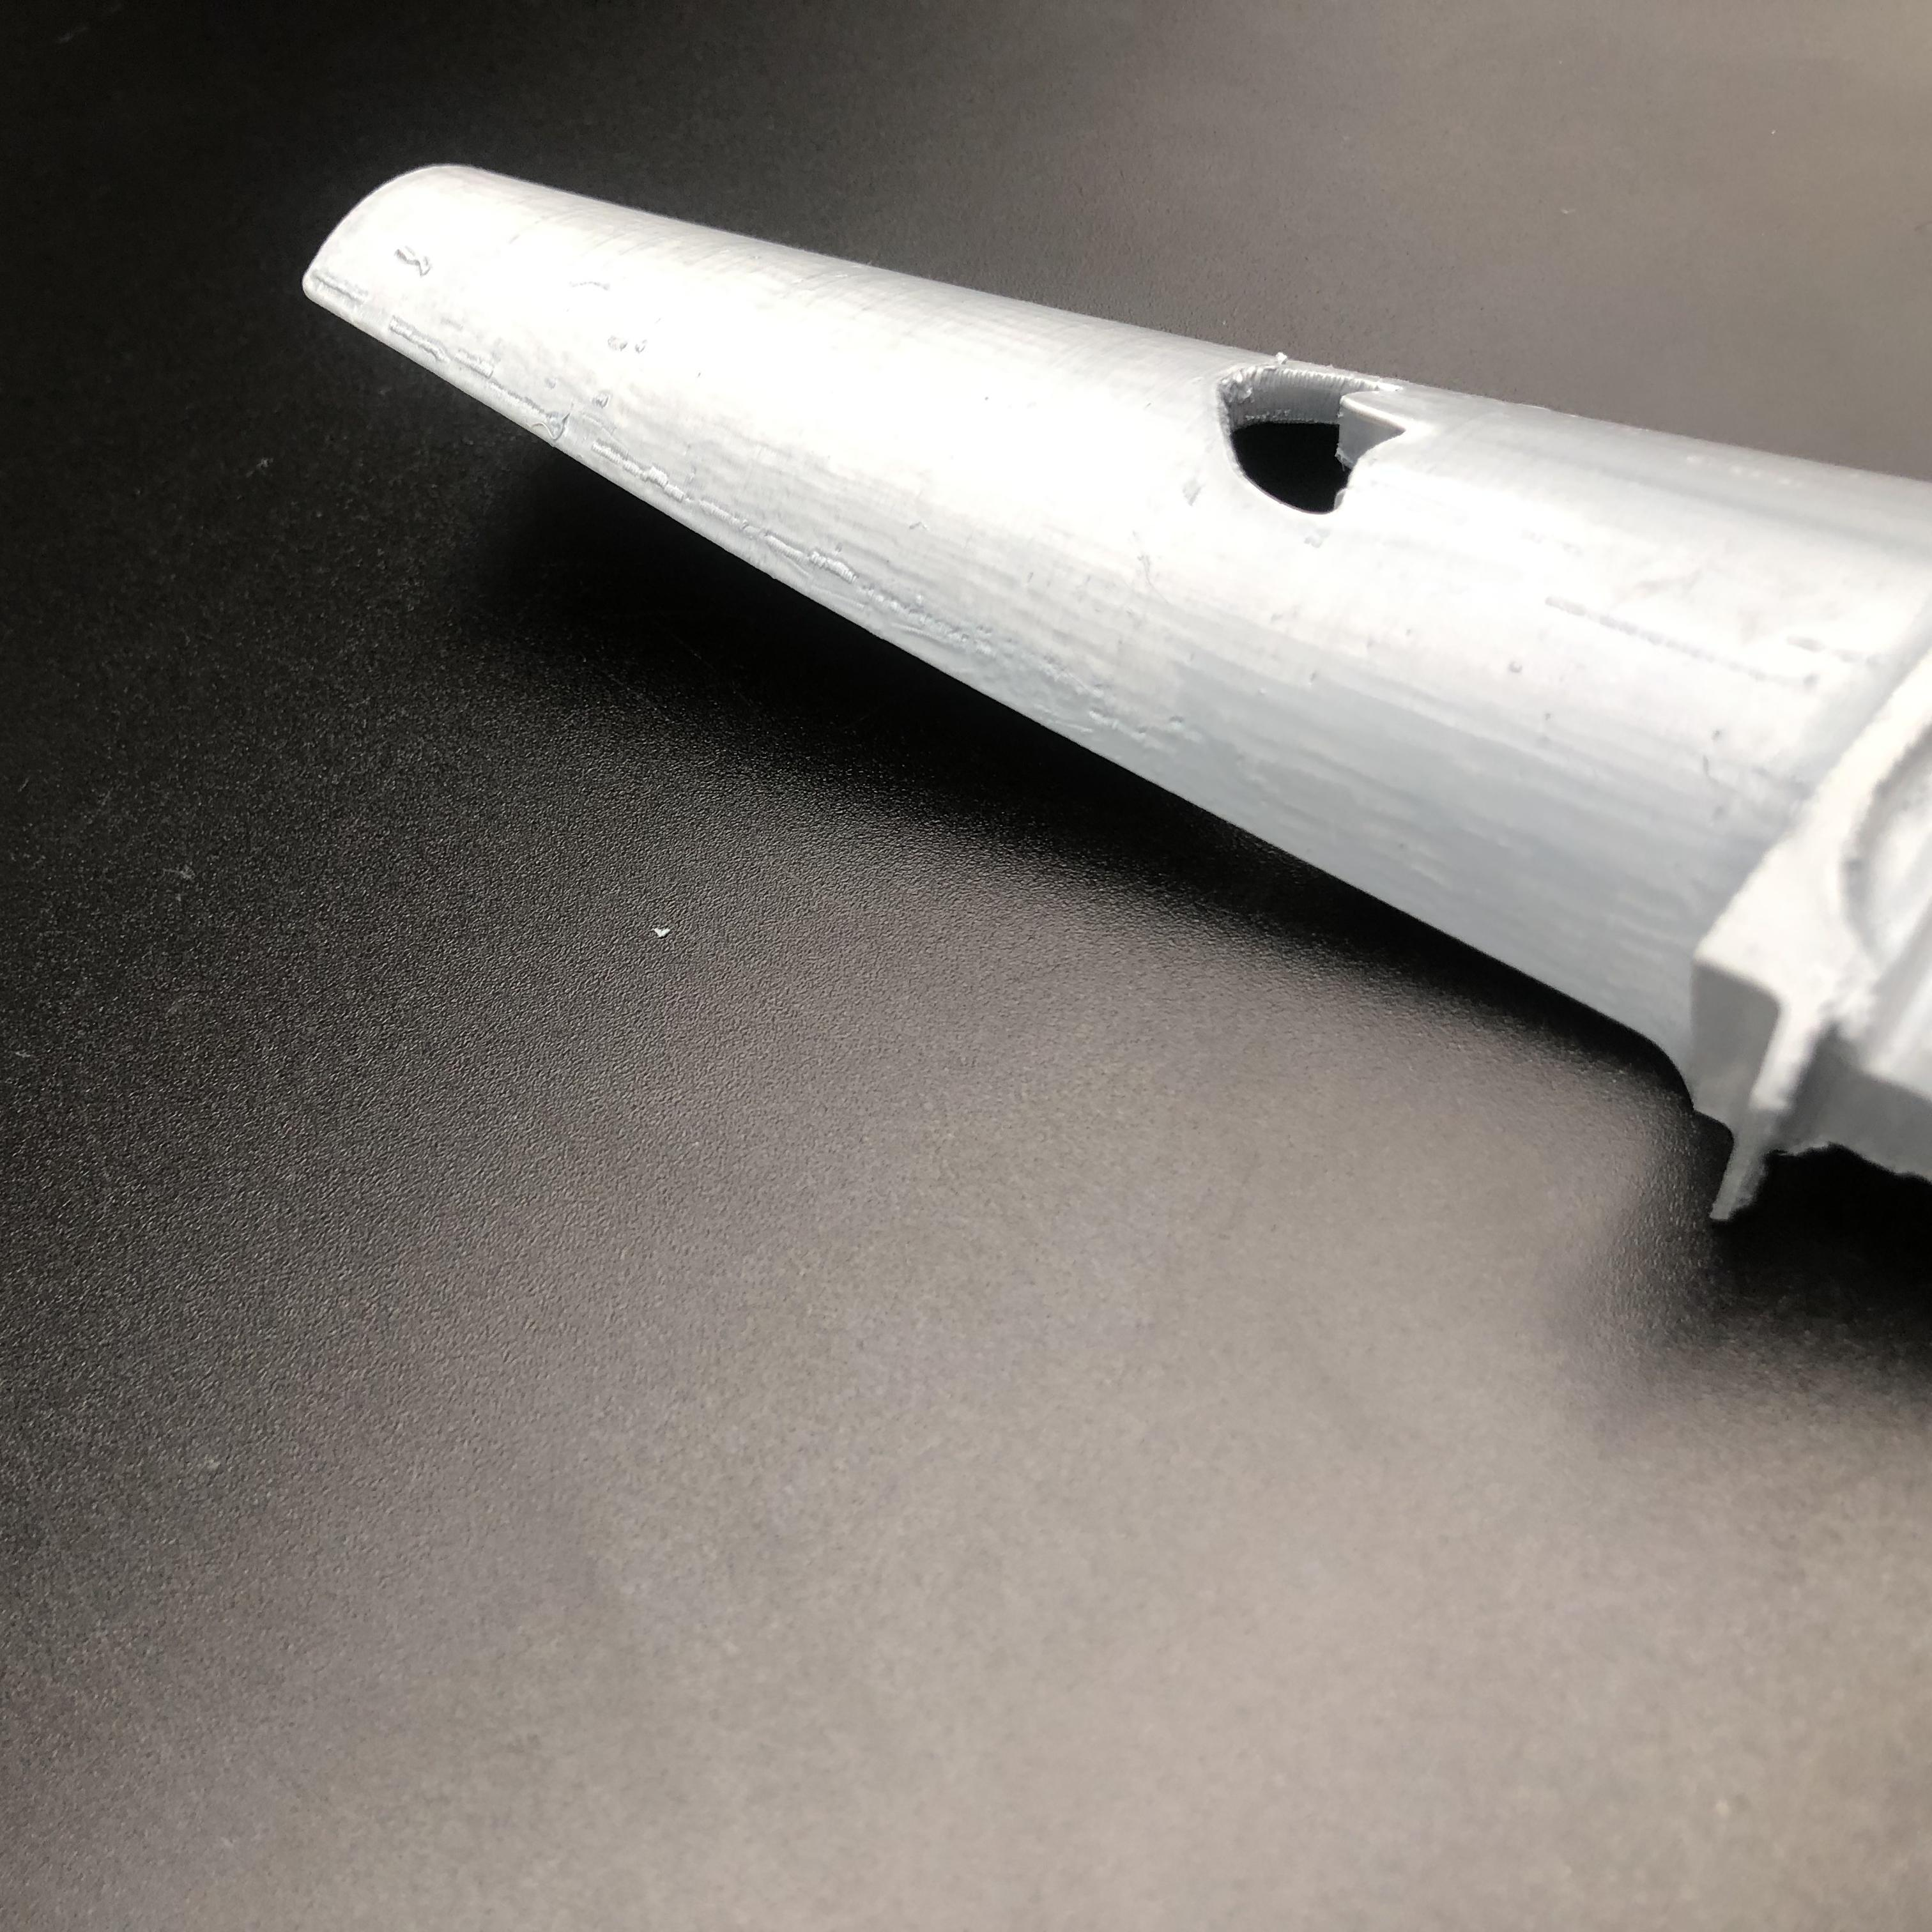breakdown: (1194, 347, 1414, 524)
